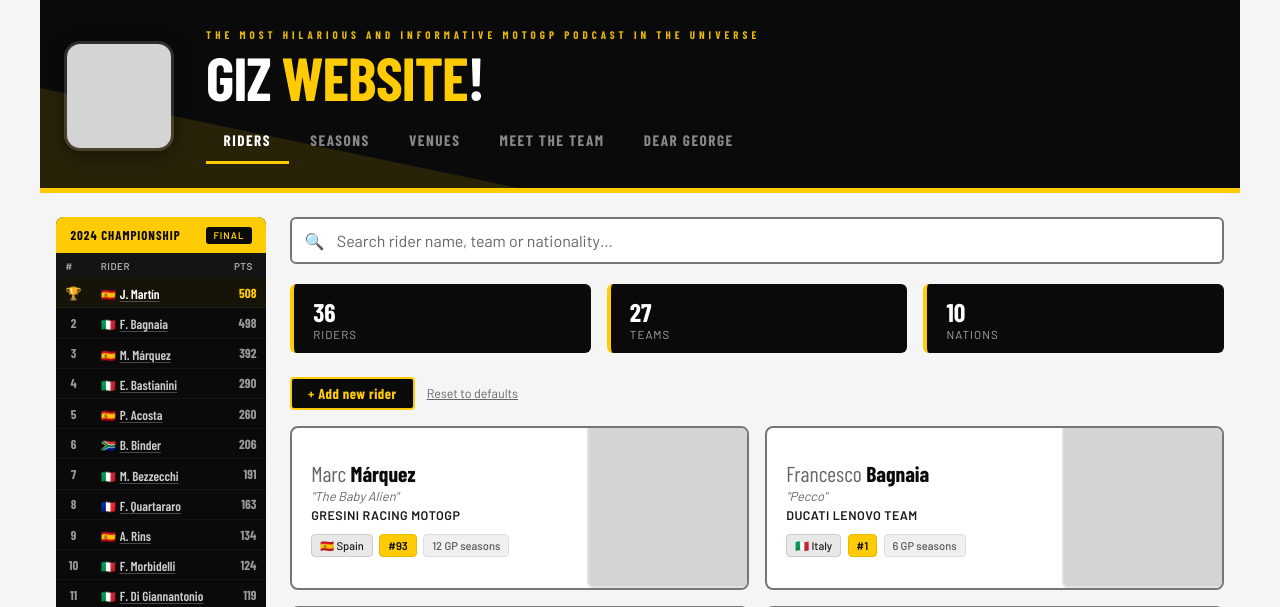
Test: Venues view › search with no match shows "No circuits found"
Click the button "Venues". click: (435, 142)
box: [391, 119, 478, 164]
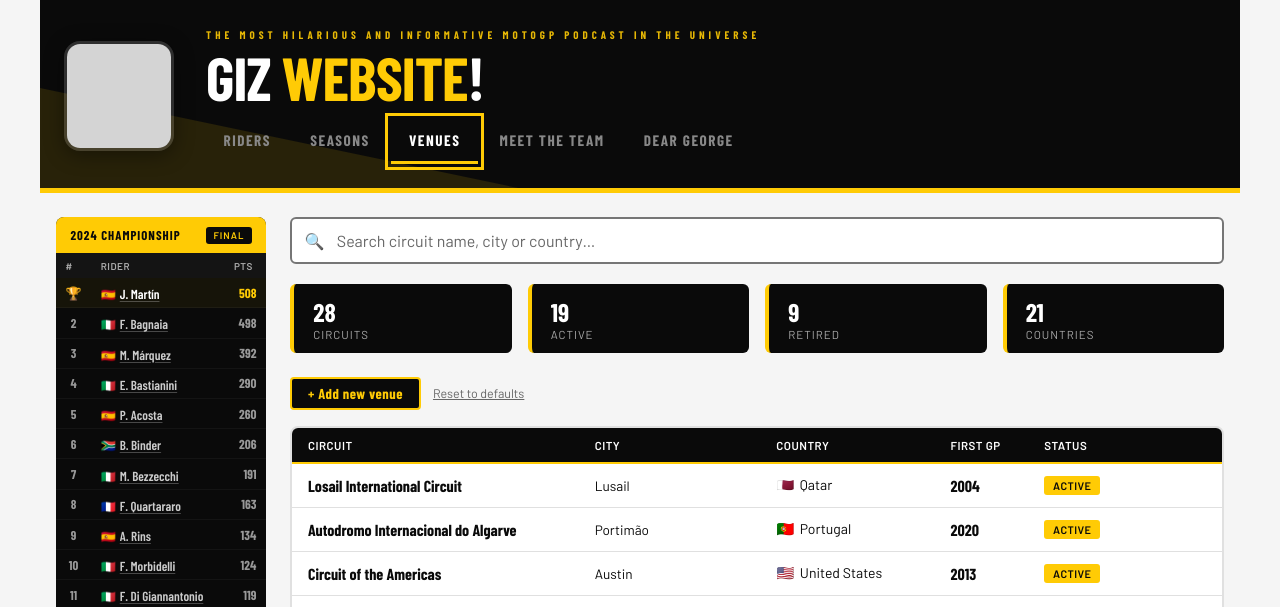
Type "zzznomatch" into the search field named "search circuits". click: (757, 241)
box: [290, 217, 1224, 264]
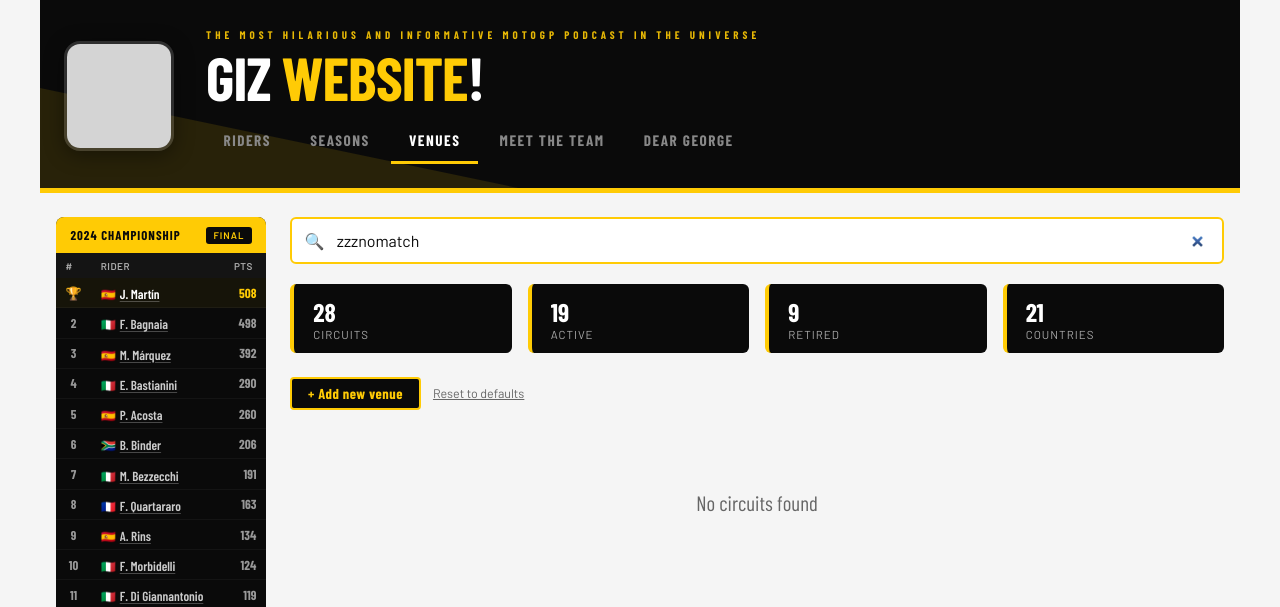
Check: the text "No circuits found" is shown, box [696, 490, 818, 515]
